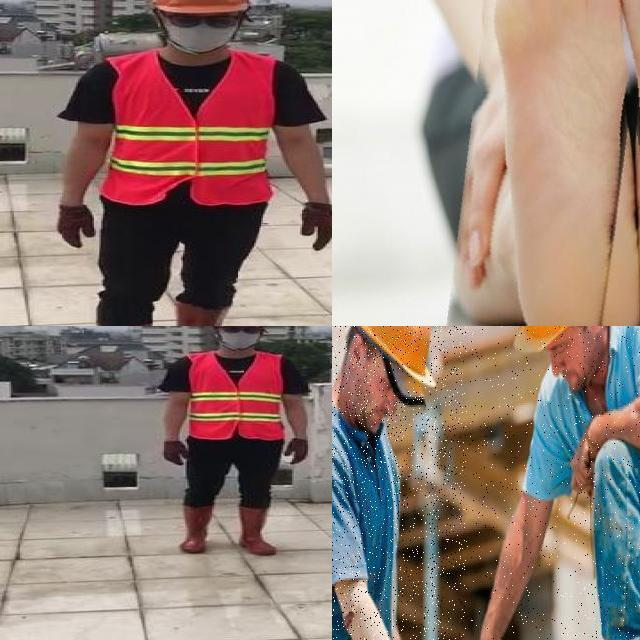Barefoots: (479, 0, 640, 326)
No_Ear-Protection: (345, 331, 370, 370), (586, 326, 609, 336)
boots: (232, 505, 276, 555), (172, 297, 234, 326), (178, 505, 212, 553)
face_mask: (161, 6, 246, 52), (216, 326, 262, 348)
glasses: (158, 7, 250, 33), (216, 326, 266, 335)
hand_glove: (55, 203, 96, 247), (300, 202, 332, 251), (158, 440, 192, 467), (283, 439, 310, 464)
head_helmet: (339, 326, 460, 393), (501, 326, 617, 360), (144, 0, 253, 15)
person: (42, 0, 332, 326), (466, 326, 640, 640), (332, 326, 471, 640), (151, 326, 325, 560)
vest: (110, 53, 272, 204), (187, 351, 287, 440)
